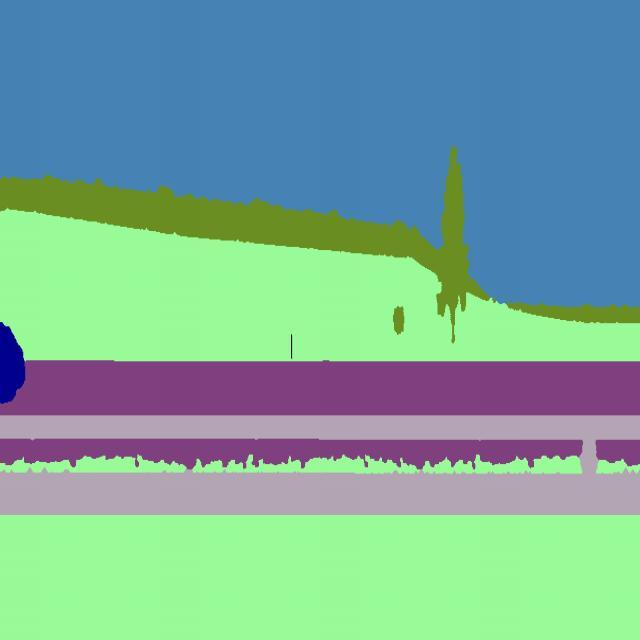safe: (0, 308, 27, 408)
